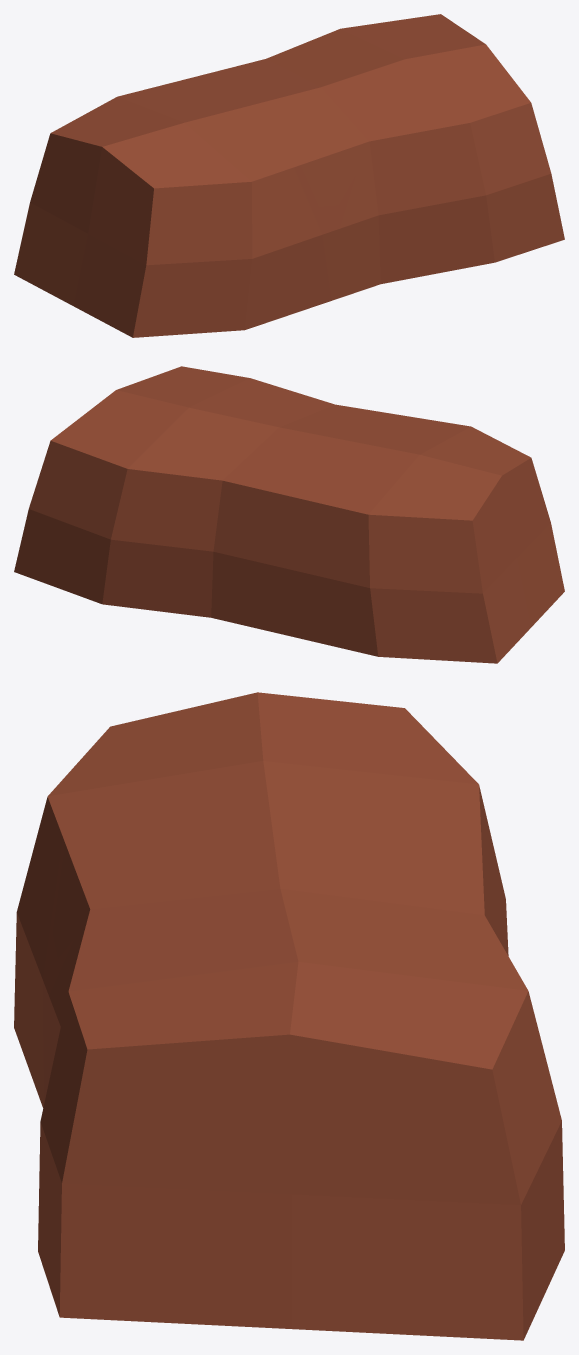
The model's file is RawMeat.glb.
3 renders of one model, top to bottom at view 1: azimuth 30°, elevation 25°; view 2: azimuth 150°, elevation 25°; view 3: azimuth 270°, elevation 25°, orthographic. The views are drawn at different scales.
Visible parts, largest first — view 1: RawMeat; view 2: RawMeat; view 3: RawMeat.
Part boxes in pixels (x1,y1,x2,y2): RawMeat: (14,14,564,337); RawMeat: (14,366,564,663); RawMeat: (14,692,564,1340).
Bounding box in the file's own units: 0.2806 × 0.0869 × 0.1578.
